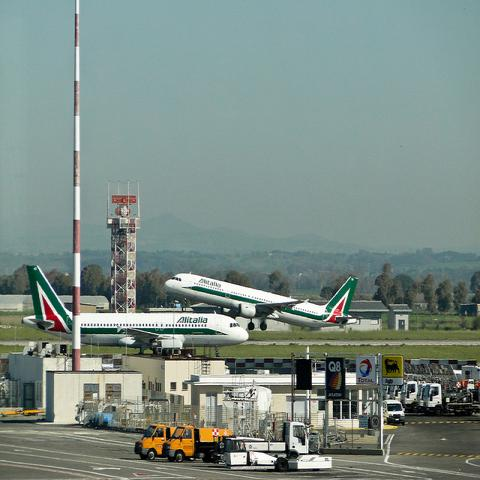car: (94, 404, 118, 426)
truck: (223, 417, 312, 457), (163, 424, 232, 462), (423, 383, 479, 418), (134, 423, 176, 460), (400, 381, 426, 413), (383, 399, 405, 426), (416, 383, 428, 413), (386, 386, 402, 402)
